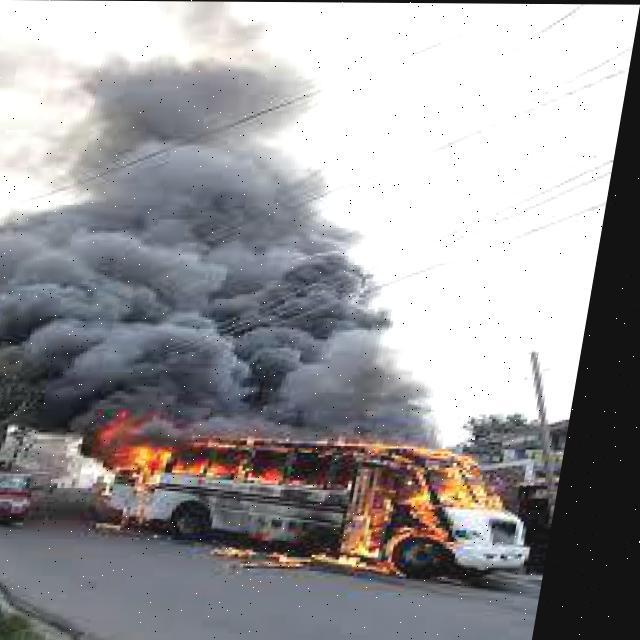Fire: (282, 434, 540, 586), (89, 398, 286, 536)
